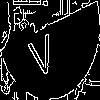V: (25, 25, 57, 79)
